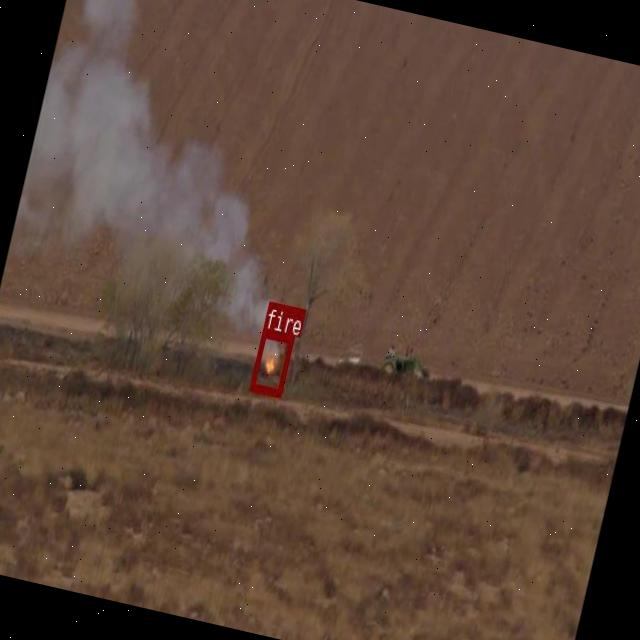fire: (249, 328, 293, 396)
